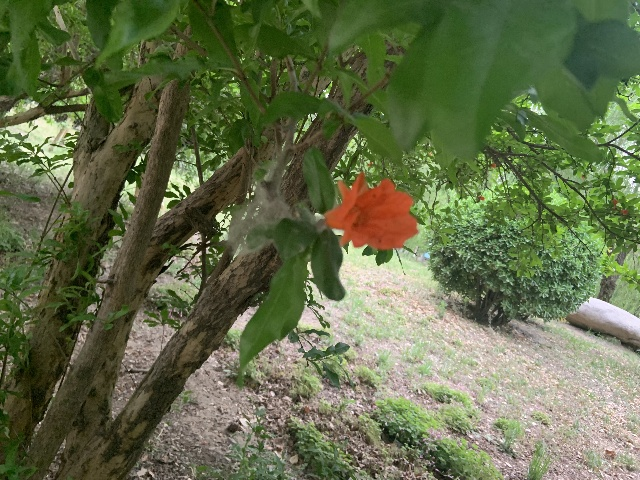flower: (323, 171, 418, 250), (612, 198, 618, 207), (620, 209, 628, 215), (490, 163, 496, 168), (478, 196, 484, 200)
